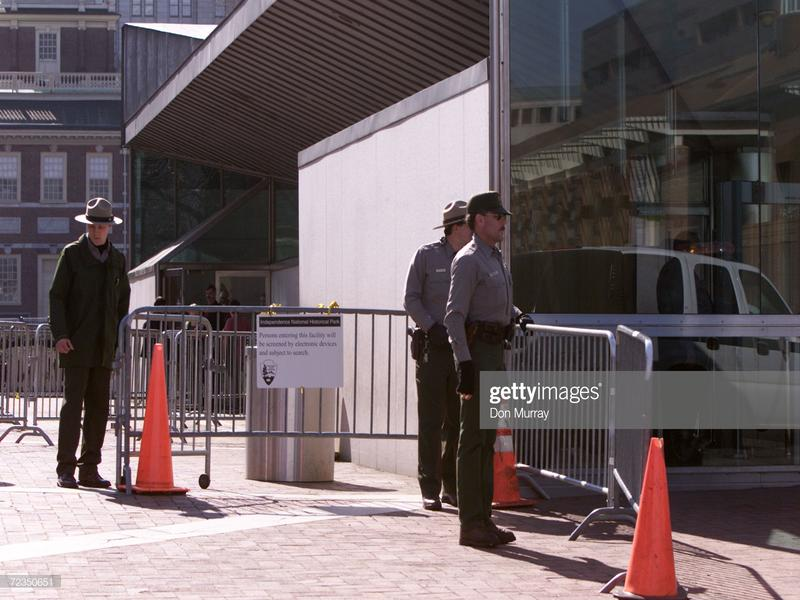Cone: (612, 436, 688, 599), (130, 342, 189, 494)
